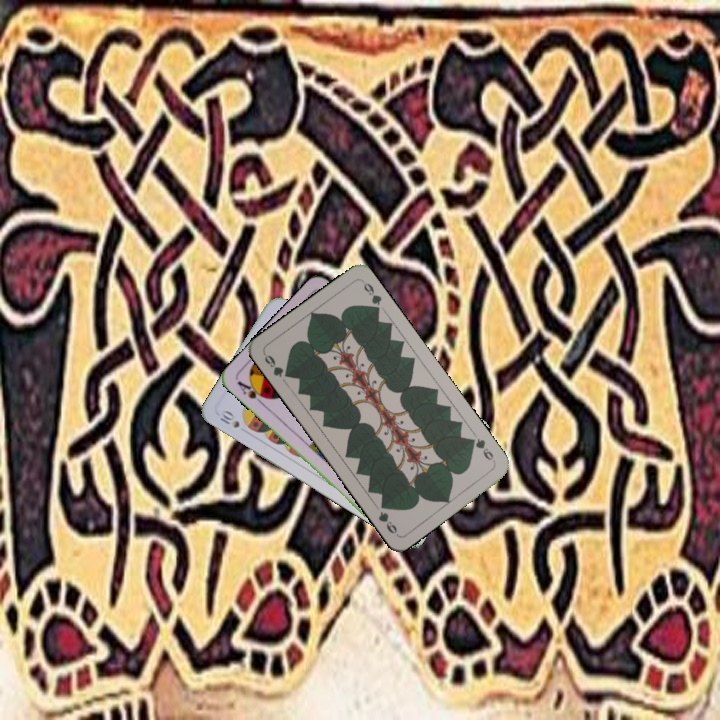G9: (260, 349, 293, 380), (465, 434, 498, 465)
S10: (216, 406, 242, 431)
SA: (233, 376, 271, 408)
